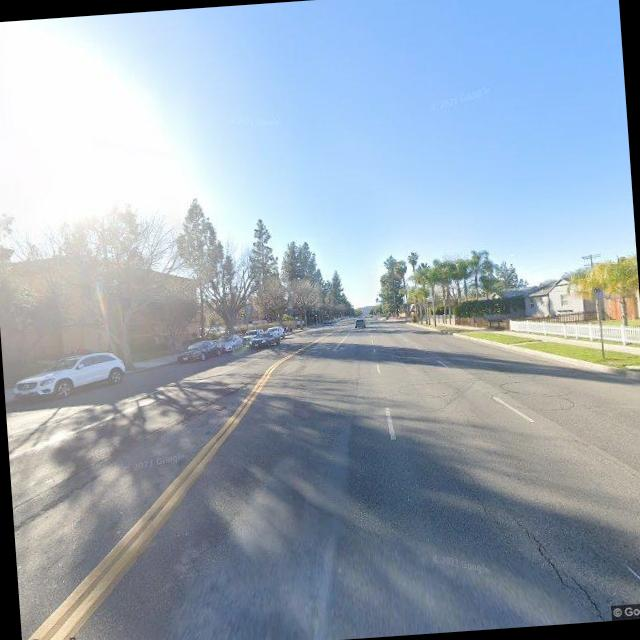pothole: (504, 500, 610, 624)
